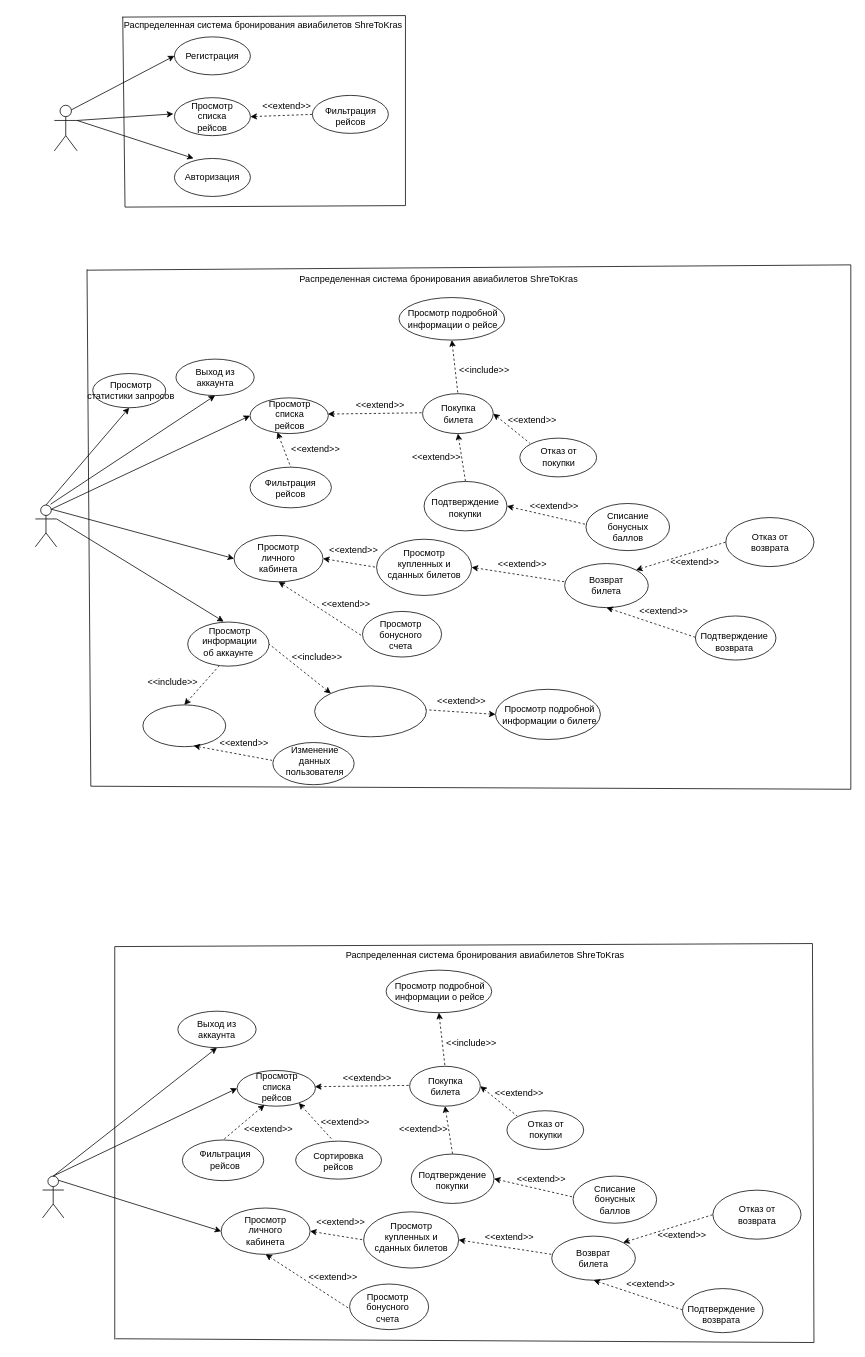
Image size: 865x1357. Some labels were removed from this diagram. The centre of each missing label's shape, as x and y in pixels:
Авторизованный пользователь: the point at 53,1196
Администратор: the point at 46,525
Неавторизованный пользователь: the point at 65,127
Просмотр билетов, купленных пользователем: the point at 370,711
Просмотр данных пользователя: the point at 184,725
